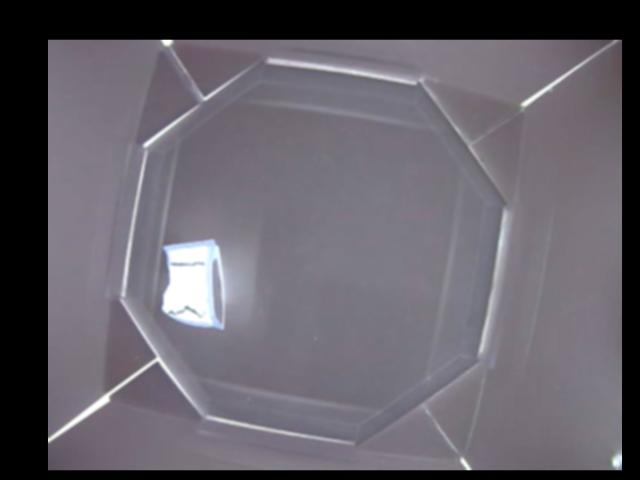China: (157, 237, 227, 325)
